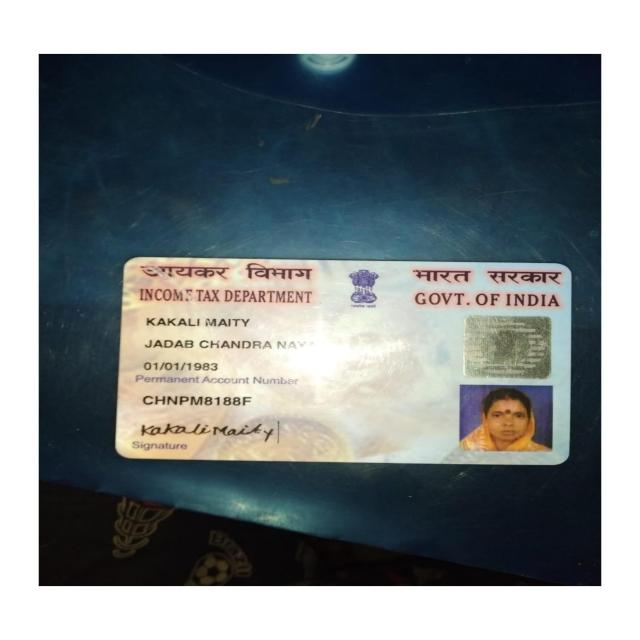pan_card: (119, 261, 569, 460)
